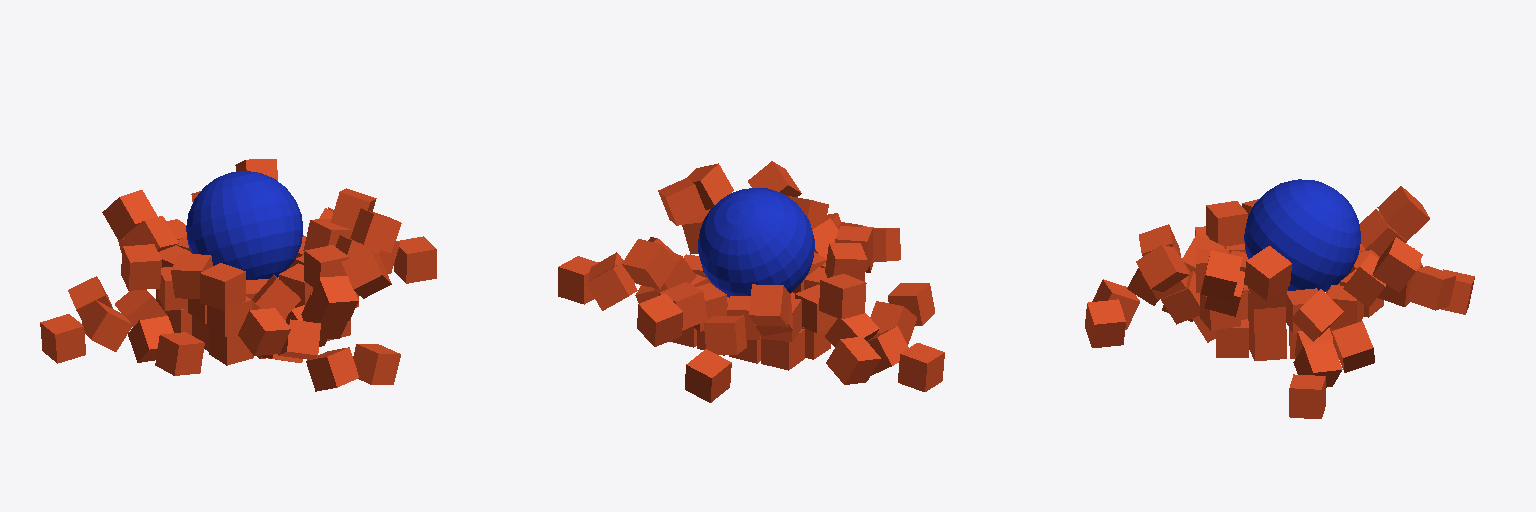
The picture shows the model from 3 angles: view 1: azimuth 30°, elevation 25°; view 2: azimuth 150°, elevation 25°; view 3: azimuth 270°, elevation 25°; orthographic projection.
Visible parts, largest first — view 1: 球体, 立方体_29, 立方体_8, 立方体_10, 立方体_12, 立方体_44, 立方体_41, 立方体_47, 立方体_13, 立方体_14, 立方体_40, 立方体_30 (+18 smaller); view 2: 球体, 立方体_61, 立方体_62, 立方体_45, 立方体_63, 立方体_44, 立方体_41, 立方体_60, 立方体_57, 立方体_31, 立方体_46, 立方体_47 (+19 smaller); view 3: 球体, 立方体_31, 立方体_14, 立方体_60, 立方体_63, 立方体_8, 立方体_62, 立方体_30, 立方体_47, 立方体_46, 立方体_15, 立方体_42 (+15 smaller).
Part boxes in pixels (x1,y1,x2,y2): 球体: (186,171,302,279); 立方体_29: (238,308,290,355); 立方体_8: (200,263,245,310); 立方体_10: (310,276,358,322); 立方体_12: (155,332,204,375); 立方体_44: (40,314,85,363); 立方体_41: (121,244,161,290); 立方体_47: (394,236,436,283); 立方体_13: (306,347,358,391); 立方体_14: (353,344,400,384); 立方体_40: (82,300,132,351); 立方体_30: (341,248,391,298); 球体: (698,188,814,297); 立方体_61: (685,349,731,402); 立方体_62: (637,293,682,346); 立方体_45: (826,336,880,384); 立方体_63: (622,239,676,288); 立方体_44: (898,343,944,391); 立方体_41: (819,274,866,319); 立方体_60: (749,284,790,326); 立方体_57: (704,315,746,354); 立方体_31: (658,178,705,225); 立方体_46: (586,262,637,310); 立方体_47: (558,256,598,304); 球体: (1244,179,1360,291); 立方体_31: (1244,246,1291,300); 立方体_14: (1085,299,1125,347); 立方体_60: (1377,186,1429,240); 立方体_63: (1372,237,1422,292); 立方体_8: (1206,201,1247,246); 立方体_62: (1407,266,1455,310); 立方体_30: (1136,245,1188,291); 立方体_47: (1289,374,1325,418); 立方体_46: (1332,321,1374,372); 立方体_15: (1200,250,1242,301); 立方体_42: (1291,289,1343,341).
Bounding box in the file's own units: 668 × 241 × 598.